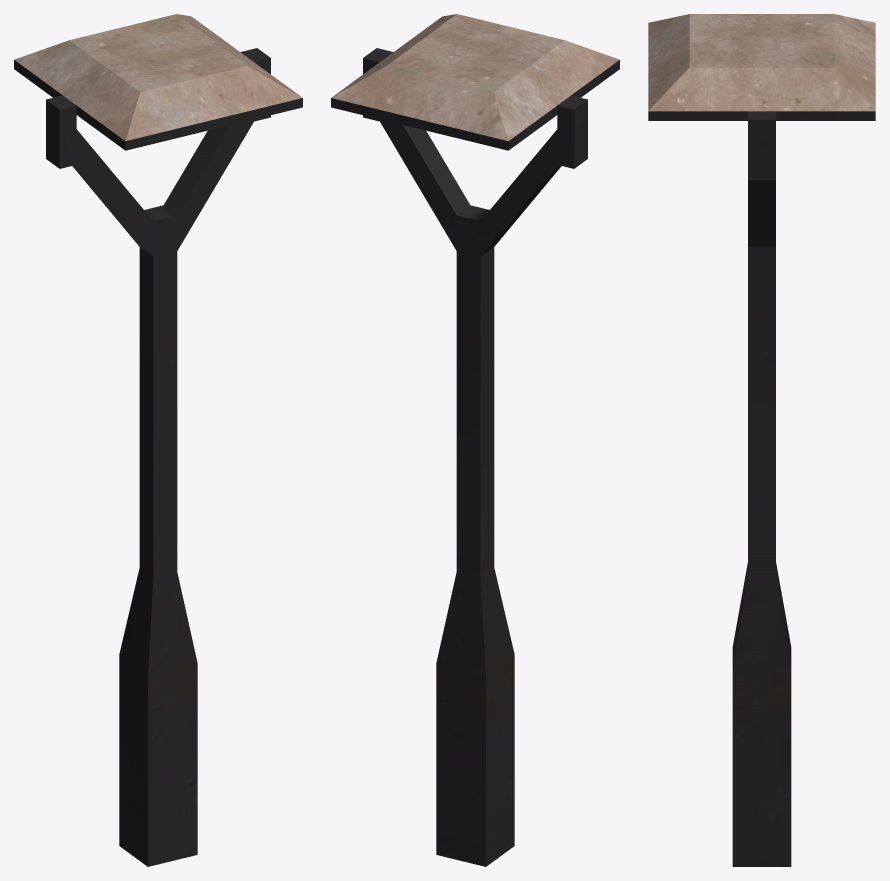
Rendered from light-streetlight-01.glb.
3 renders of one model, left to right at view 1: azimuth 30°, elevation 25°; view 2: azimuth 150°, elevation 25°; view 3: azimuth 270°, elevation 25°, orthographic. The views are drawn at different scales.
Visible parts, largest first — view 1: Light_Streetlight_01; view 2: Light_Streetlight_01; view 3: Light_Streetlight_01.
Part boxes in pixels (x1=…): Light_Streetlight_01: x1=14, y1=14, x2=302, y2=866; Light_Streetlight_01: x1=331, y1=14, x2=619, y2=866; Light_Streetlight_01: x1=648, y1=14, x2=875, y2=866.
Size of the model in its own units: 0.6123 by 2.21 by 0.5592.
Materials: 2 (2 with a texture image).
